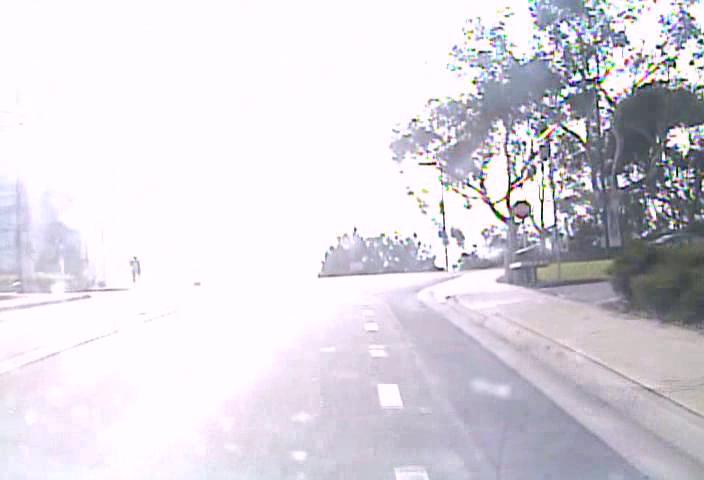stop: (511, 199, 531, 219)
